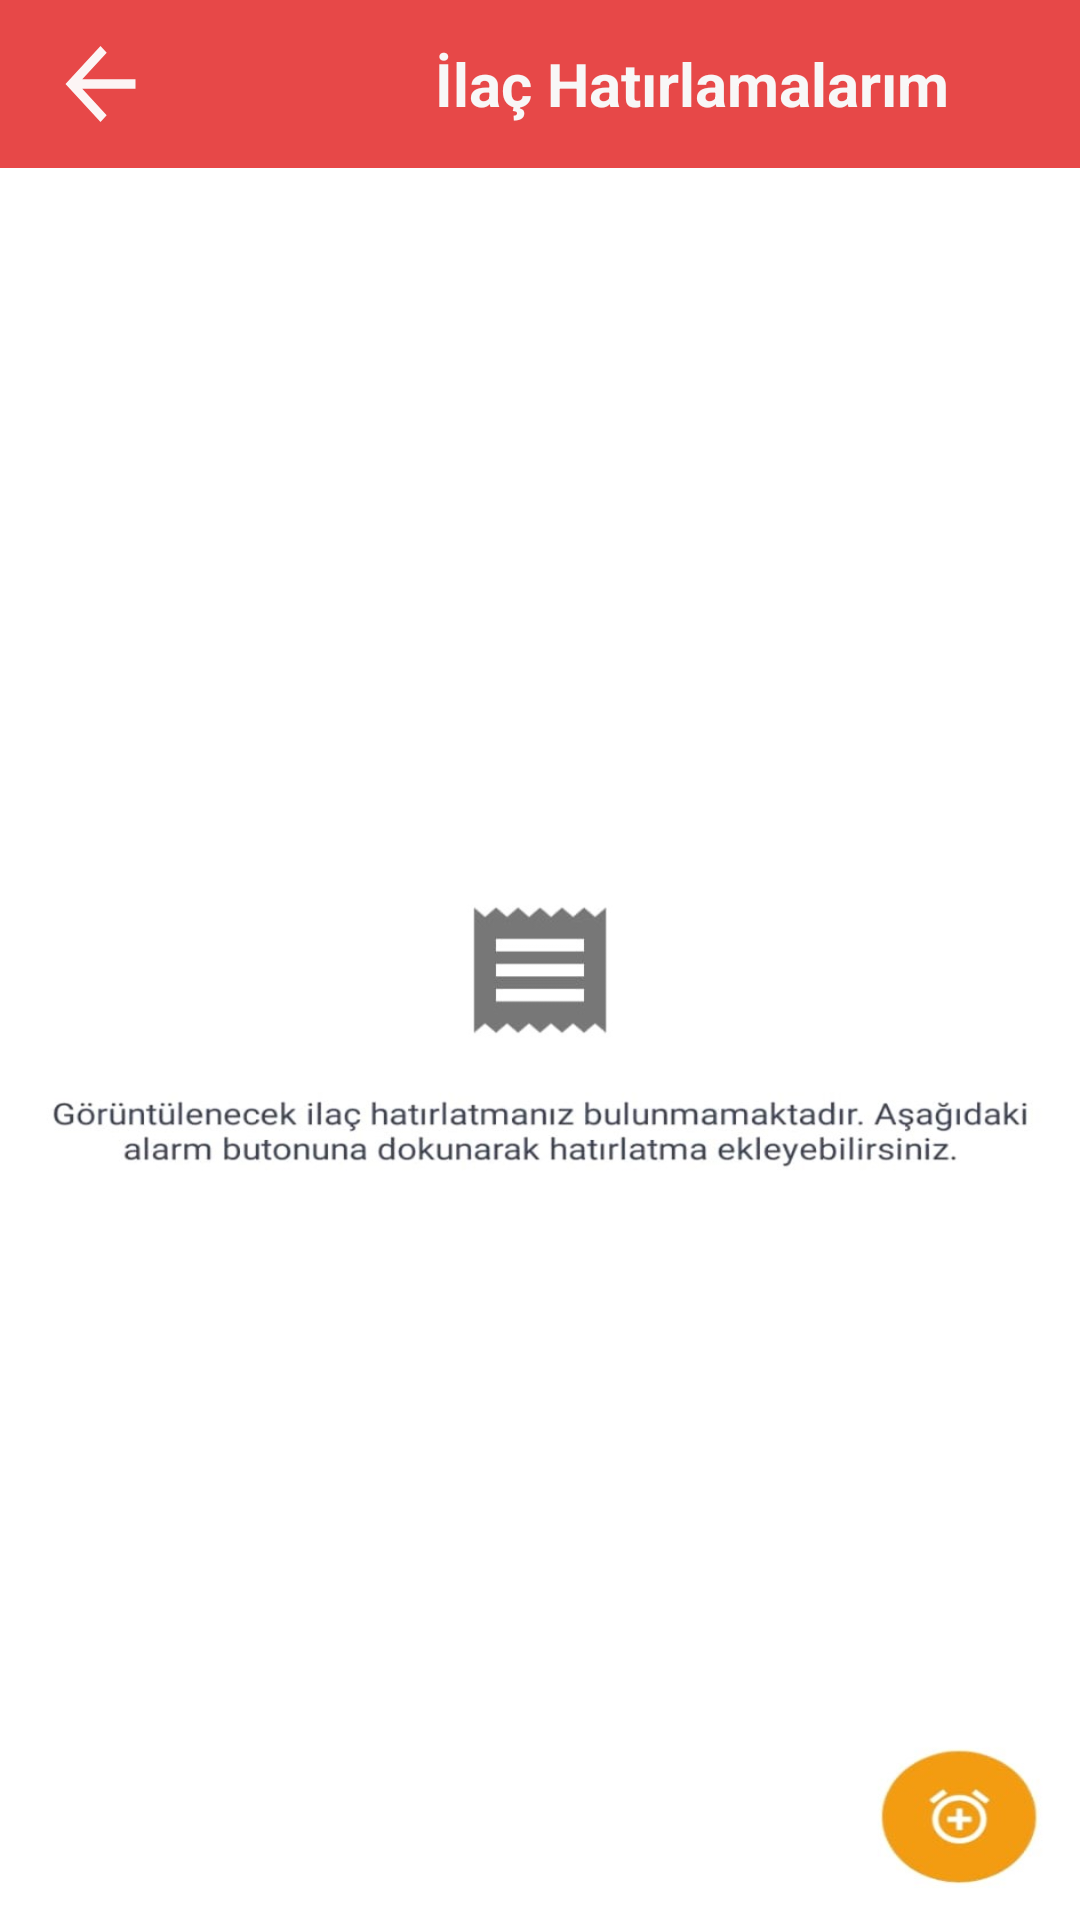

Where to tap for icons on this 1080px×1920px app screen, as point (x, y):
arrow back: point (101, 84)
